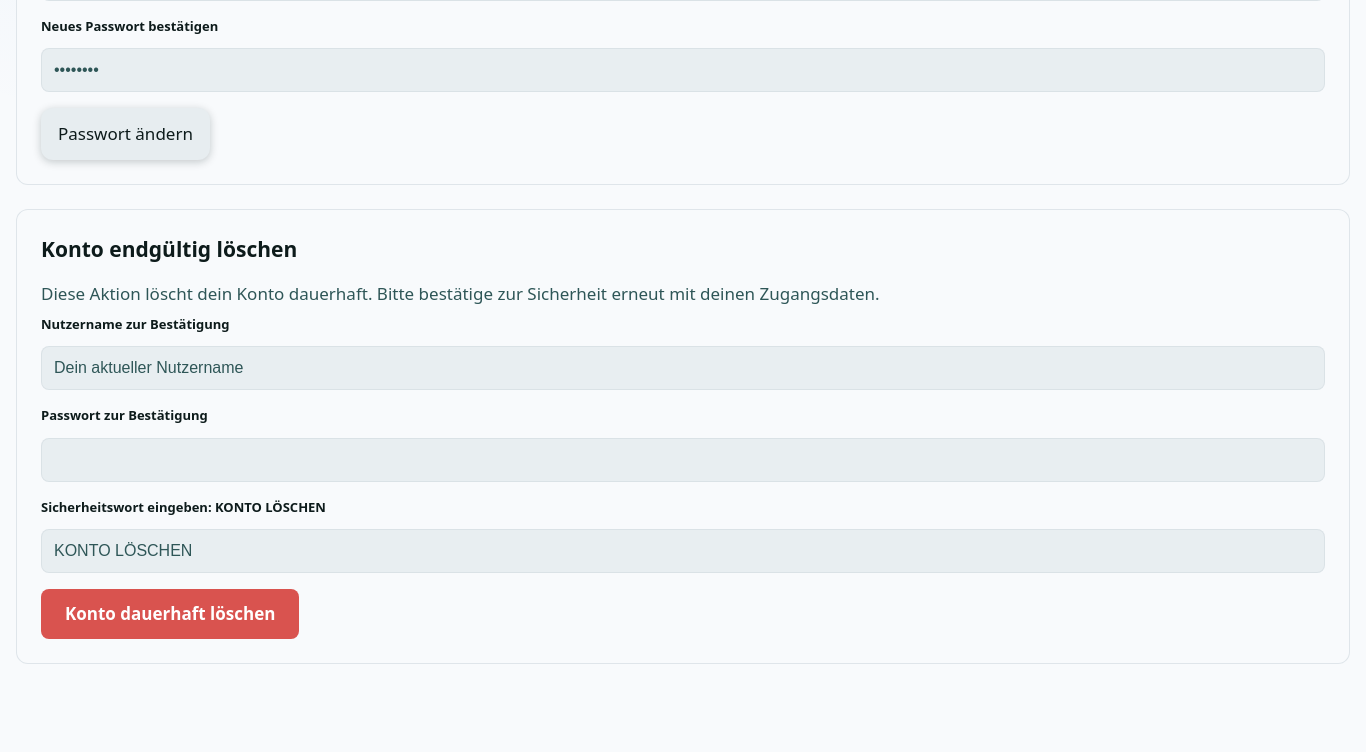
Test case: UserSettings › validiert das Sicherheitswort vor dem Konto-Löschen
(page scrolled)
Type "amy" into the field labelled "Nutzername zur Bestätigung" at (683, 368), box [41,346,1325,390]
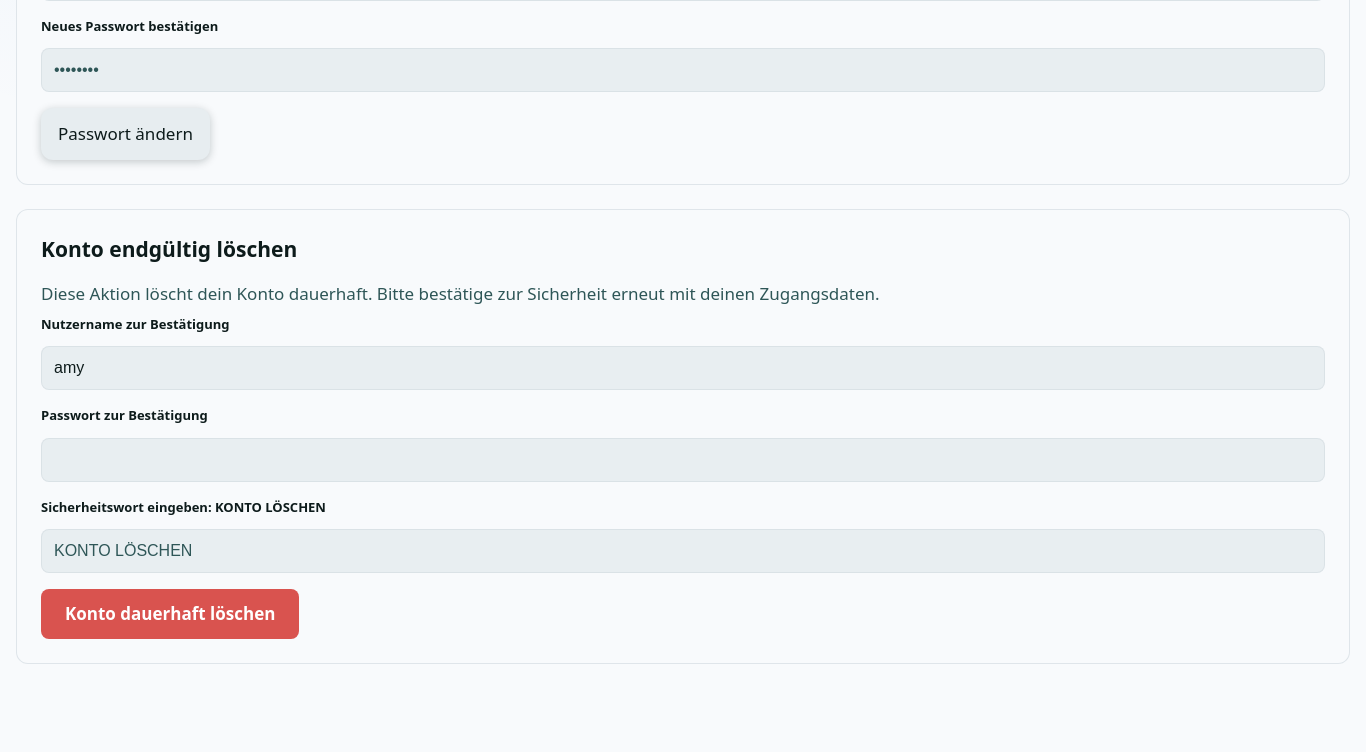
Type "topsecret" into the password field labelled "Passwort zur Bestätigung" at (683, 460), box [41,438,1325,482]
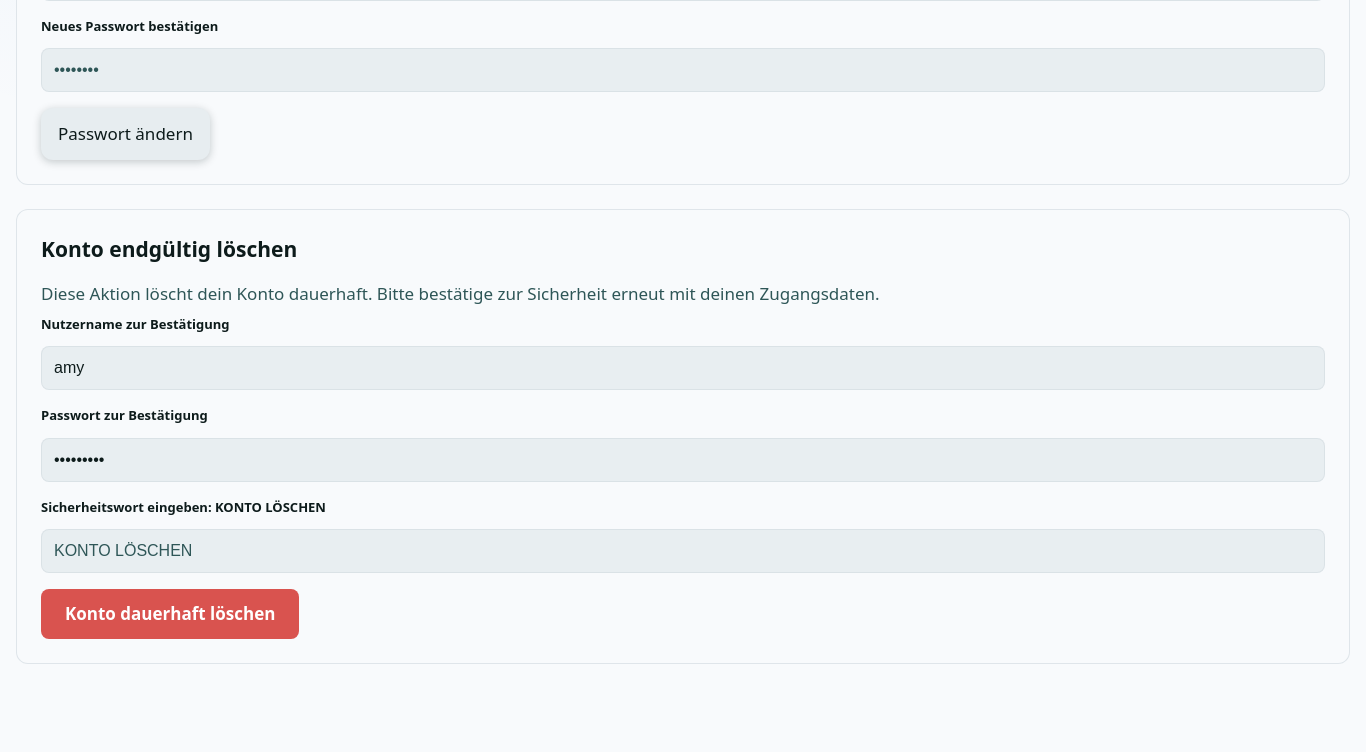
Type "löschen" into the field labelled "Sicherheitswort eingeben: KONTO LÖSCHEN" at (683, 551), box [41,529,1325,573]
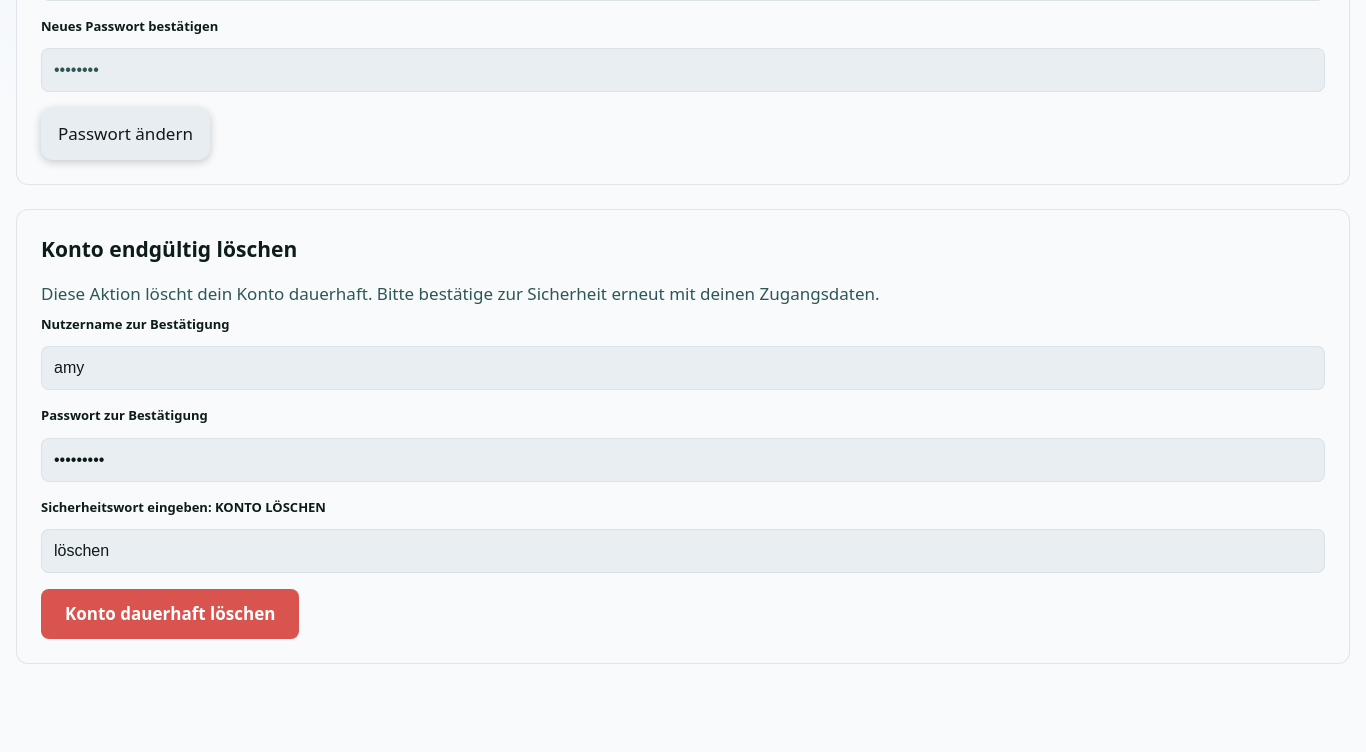
Click the button "Konto dauerhaft löschen" at (170, 614), box [41,589,299,638]
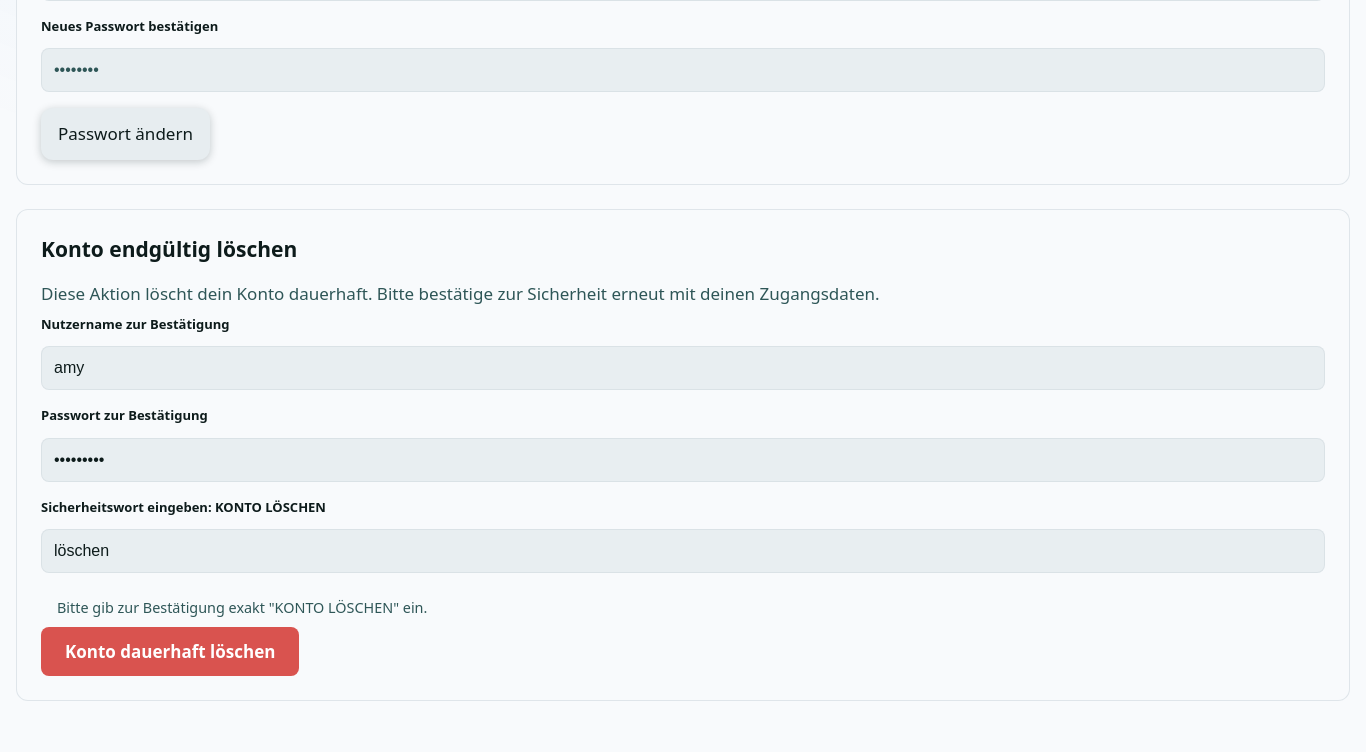
Now the text "Bitte gib zur Bestätigung exakt \"KONTO LÖSCHEN\" ein." is shown, box [57,598,427,617]
